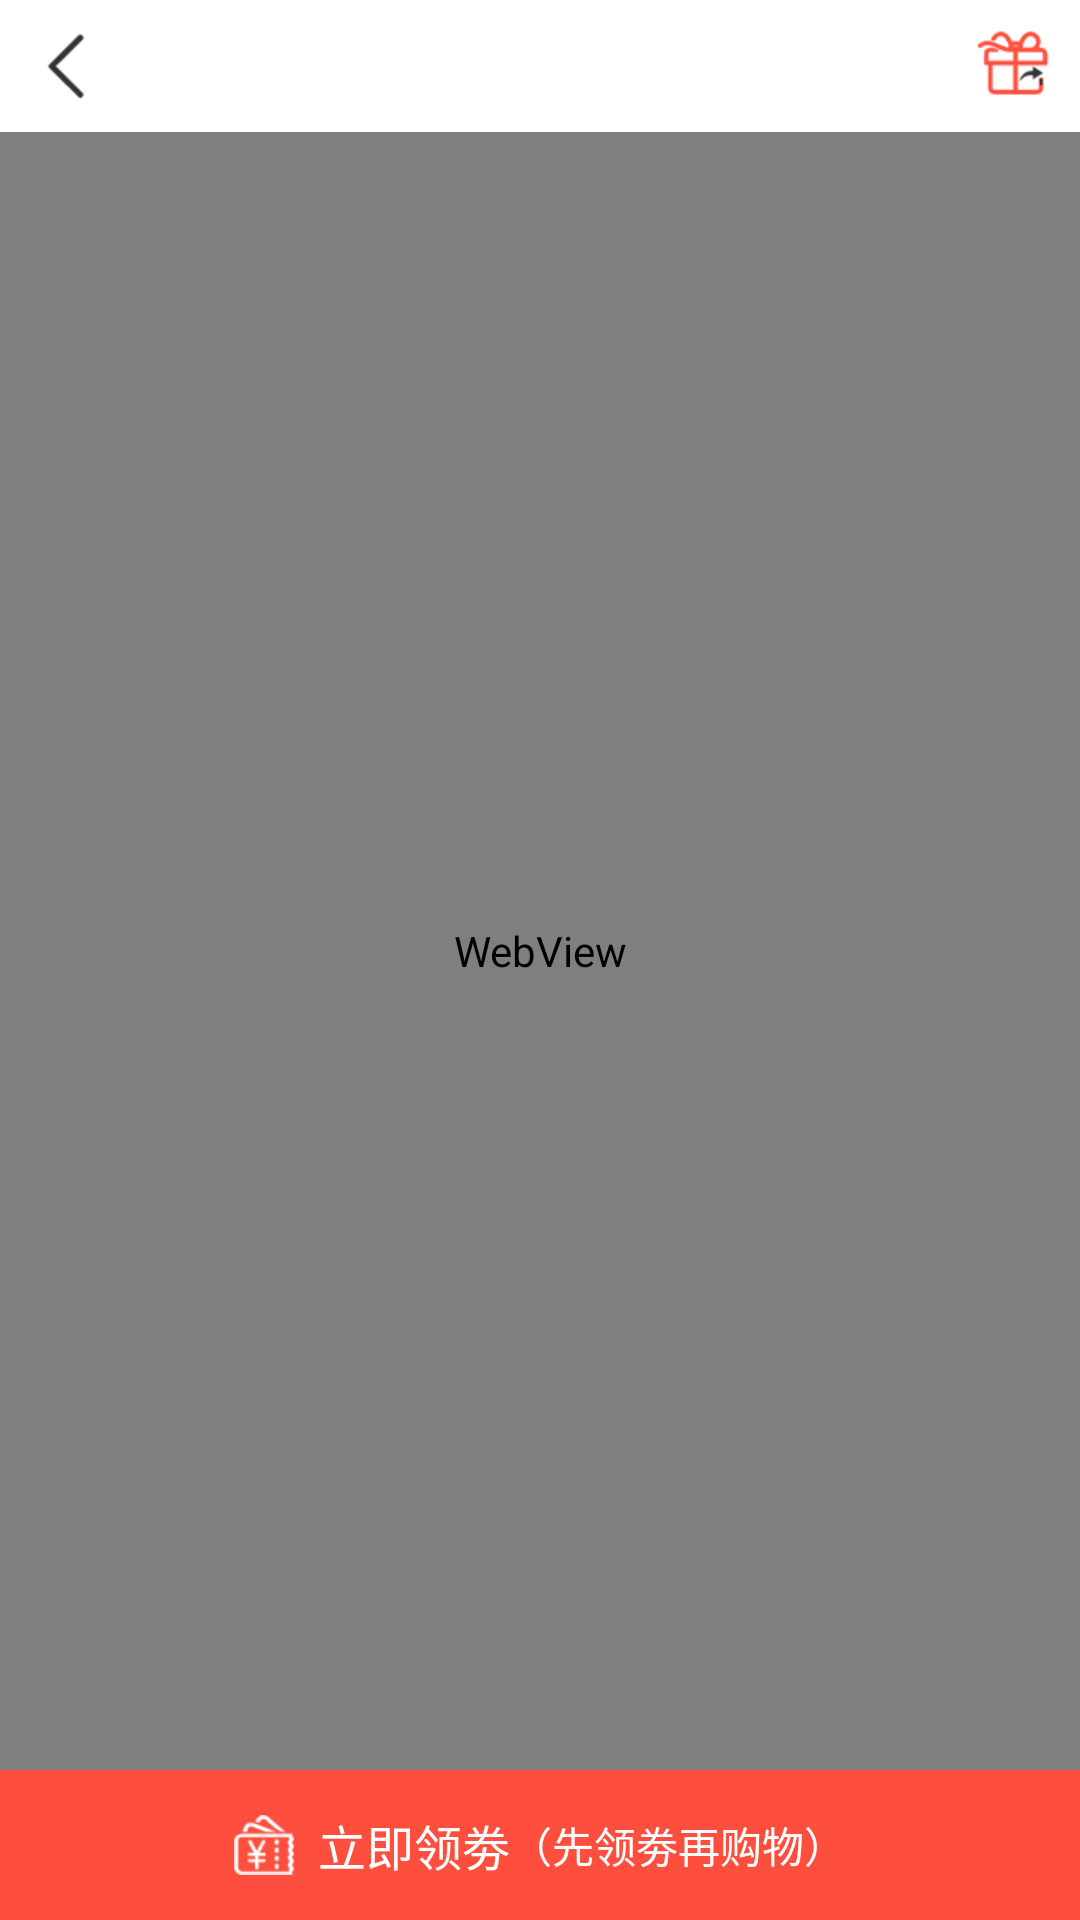

Screen size 1080*1920. Icon name, then its center in pixels as (x,y):
return: (66,66)
share: (1013,63)
yhq: (264,1845)
